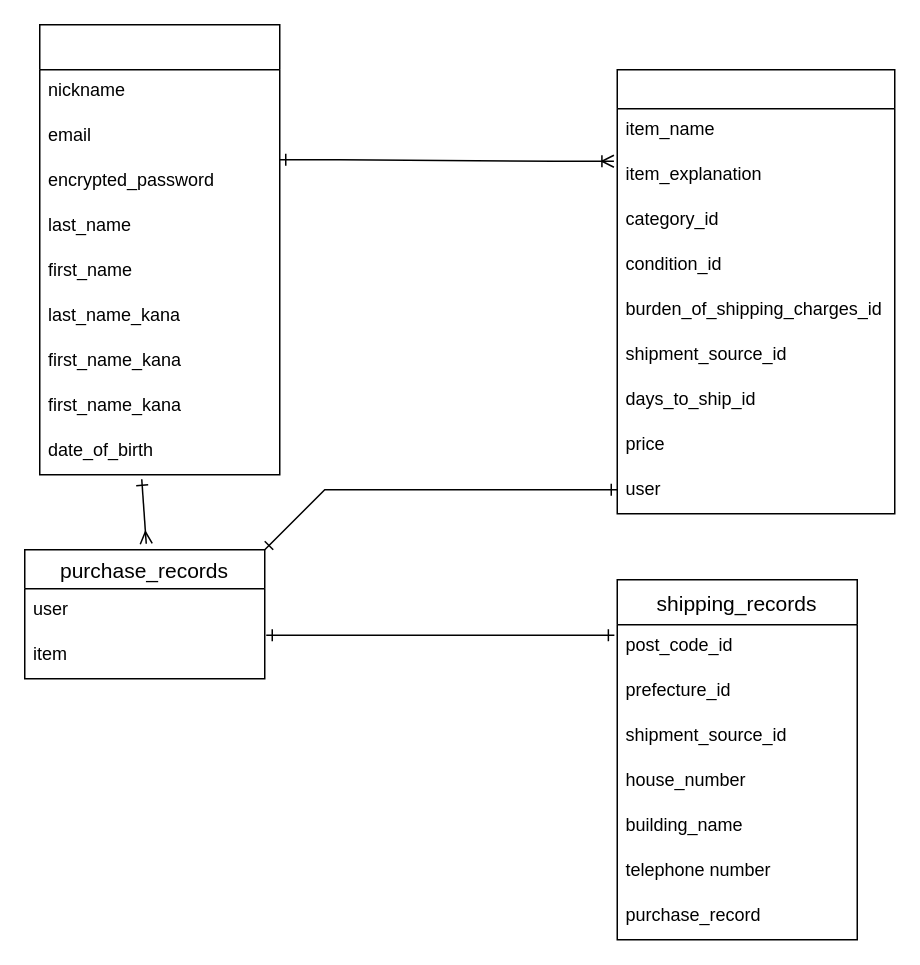
Some shapes in this 920 by 965 pixel diagram are drawn without their labels. Here are the shapes that lost their labels. From the top down, the box of each, then its label:
(38, 23, 280, 475): users
(616, 68, 895, 514): items
